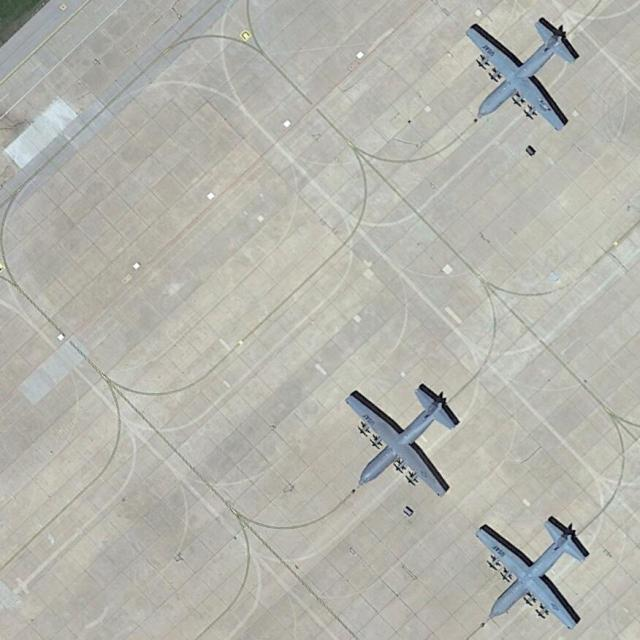fighter jet: (335, 387, 470, 502), (465, 13, 581, 134), (477, 517, 594, 628)
